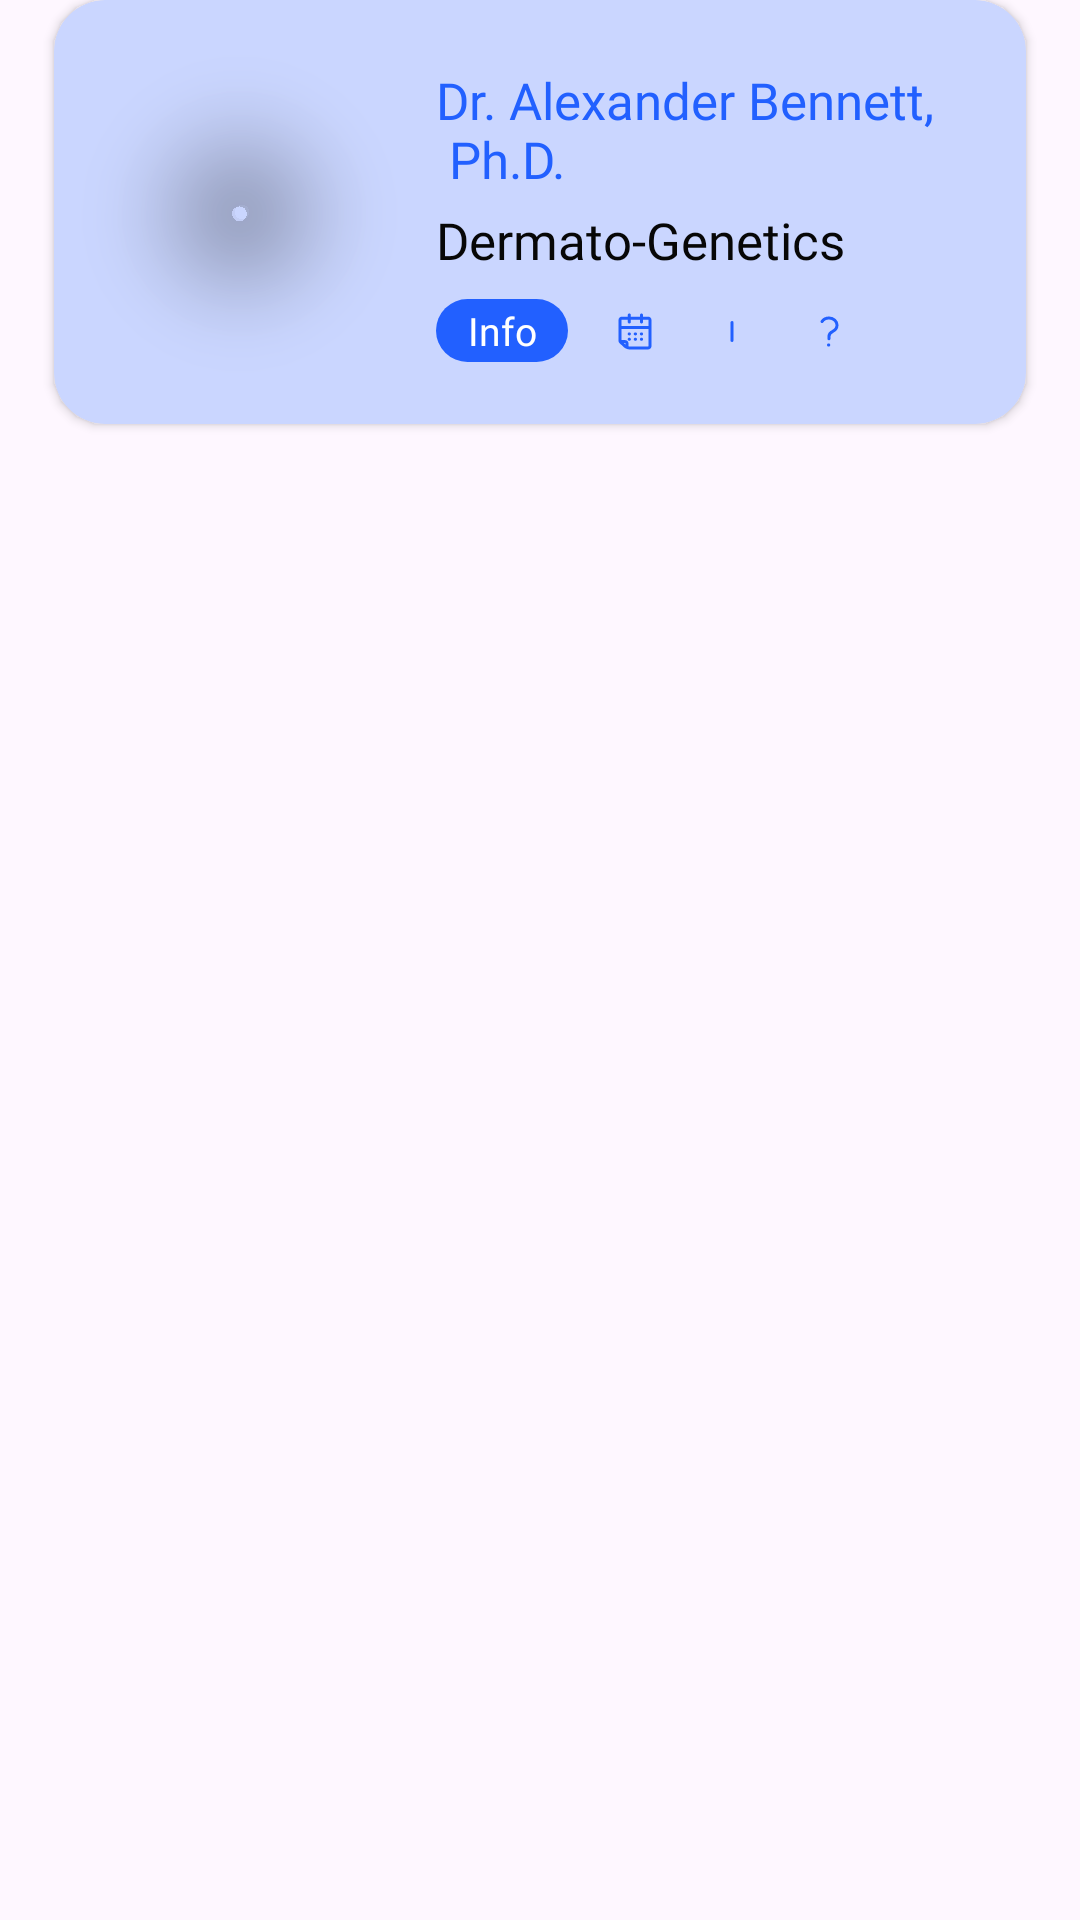

Screen size 1080 × 1920. Icon name, then its center in pixels as [x,y]:
calender: [635,331]
question mark: [829,331]
